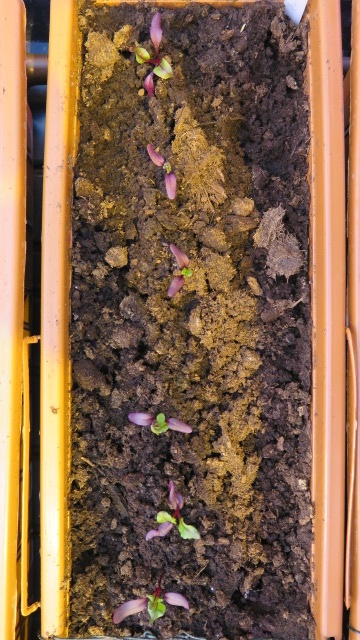crop: (142, 475, 203, 545), (131, 10, 177, 100), (110, 583, 191, 627), (145, 142, 179, 203), (126, 408, 194, 438), (167, 239, 194, 301)
